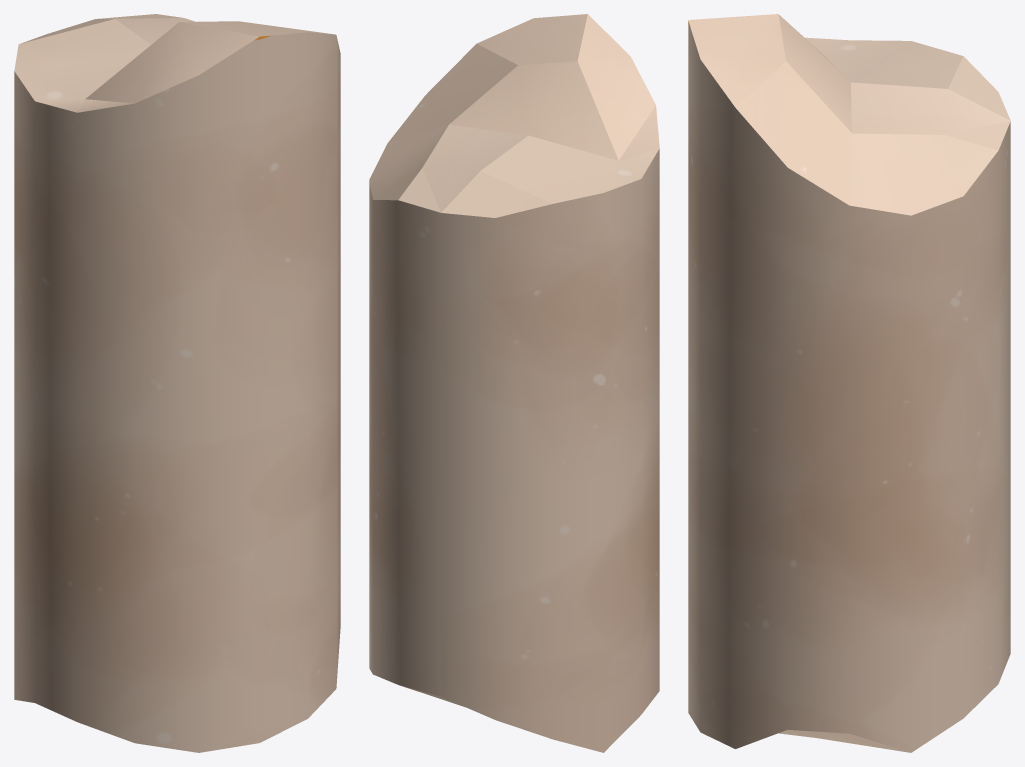
File: PillarFragment4.fbx
3 views of the same model, side by side, from view 1: azimuth 30°, elevation 25°; view 2: azimuth 150°, elevation 25°; view 3: azimuth 270°, elevation 25° (orthographic). The views are drawn at different scales.
Parts seen in each view (by area): view 1: PillarFragment4; view 2: PillarFragment4; view 3: PillarFragment4.
Part boxes in pixels (left/top/right/bottom): PillarFragment4: left=14, top=14, right=340, bottom=752; PillarFragment4: left=369, top=14, right=659, bottom=752; PillarFragment4: left=688, top=14, right=1010, bottom=752.
Size of the model in its own units: 1.72 by 4.21 by 1.72.
